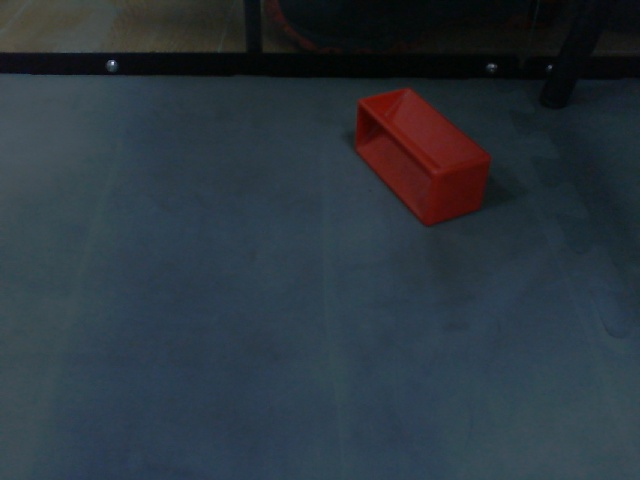RedSample: (352, 85, 493, 229)
